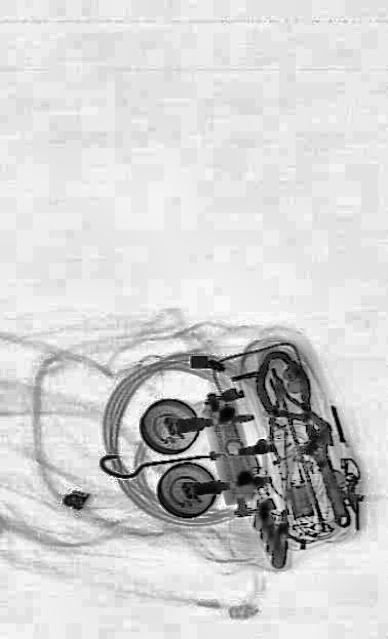Pliers: (247, 348, 330, 474)
Wrench: (292, 409, 360, 541)
